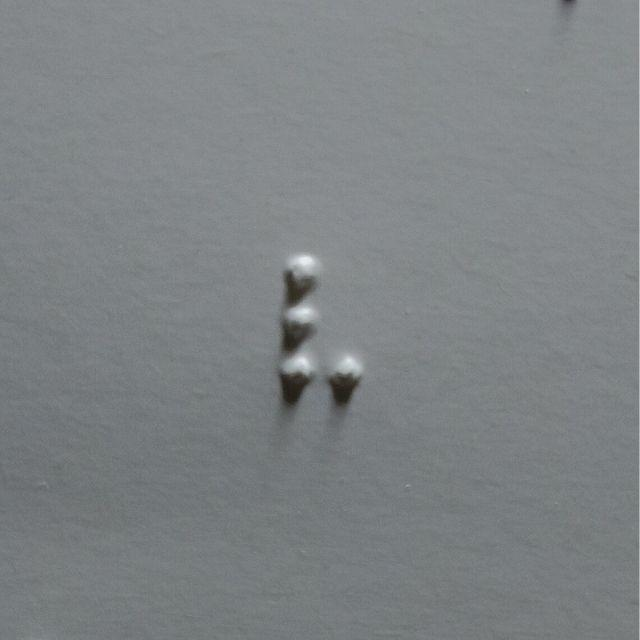v: (277, 250, 364, 399)
